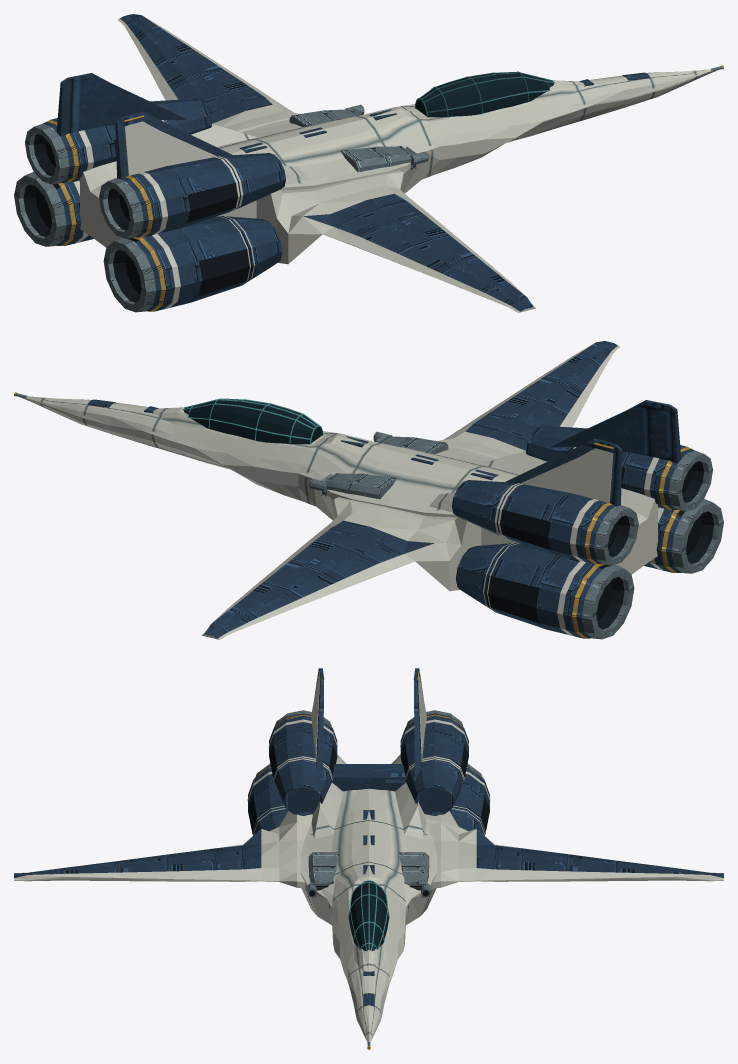
File: talon.glb
3 renders of one model, top to bottom at view 1: azimuth 30°, elevation 25°; view 2: azimuth 150°, elevation 25°; view 3: azimuth 270°, elevation 25°, orthographic. The views are drawn at different scales.
Parts seen in each view (by area): view 1: Talon_EngineClearance_InwardFins_Candidate; view 2: Talon_EngineClearance_InwardFins_Candidate; view 3: Talon_EngineClearance_InwardFins_Candidate.
Part boxes in pixels (x1,y1,x2,y2): Talon_EngineClearance_InwardFins_Candidate: [14, 14, 723, 312]; Talon_EngineClearance_InwardFins_Candidate: [14, 341, 723, 639]; Talon_EngineClearance_InwardFins_Candidate: [14, 668, 723, 1049].
Size of the model in its own units: 1.83 by 0.4834 by 1.98.
3 materials, 1 textured.
